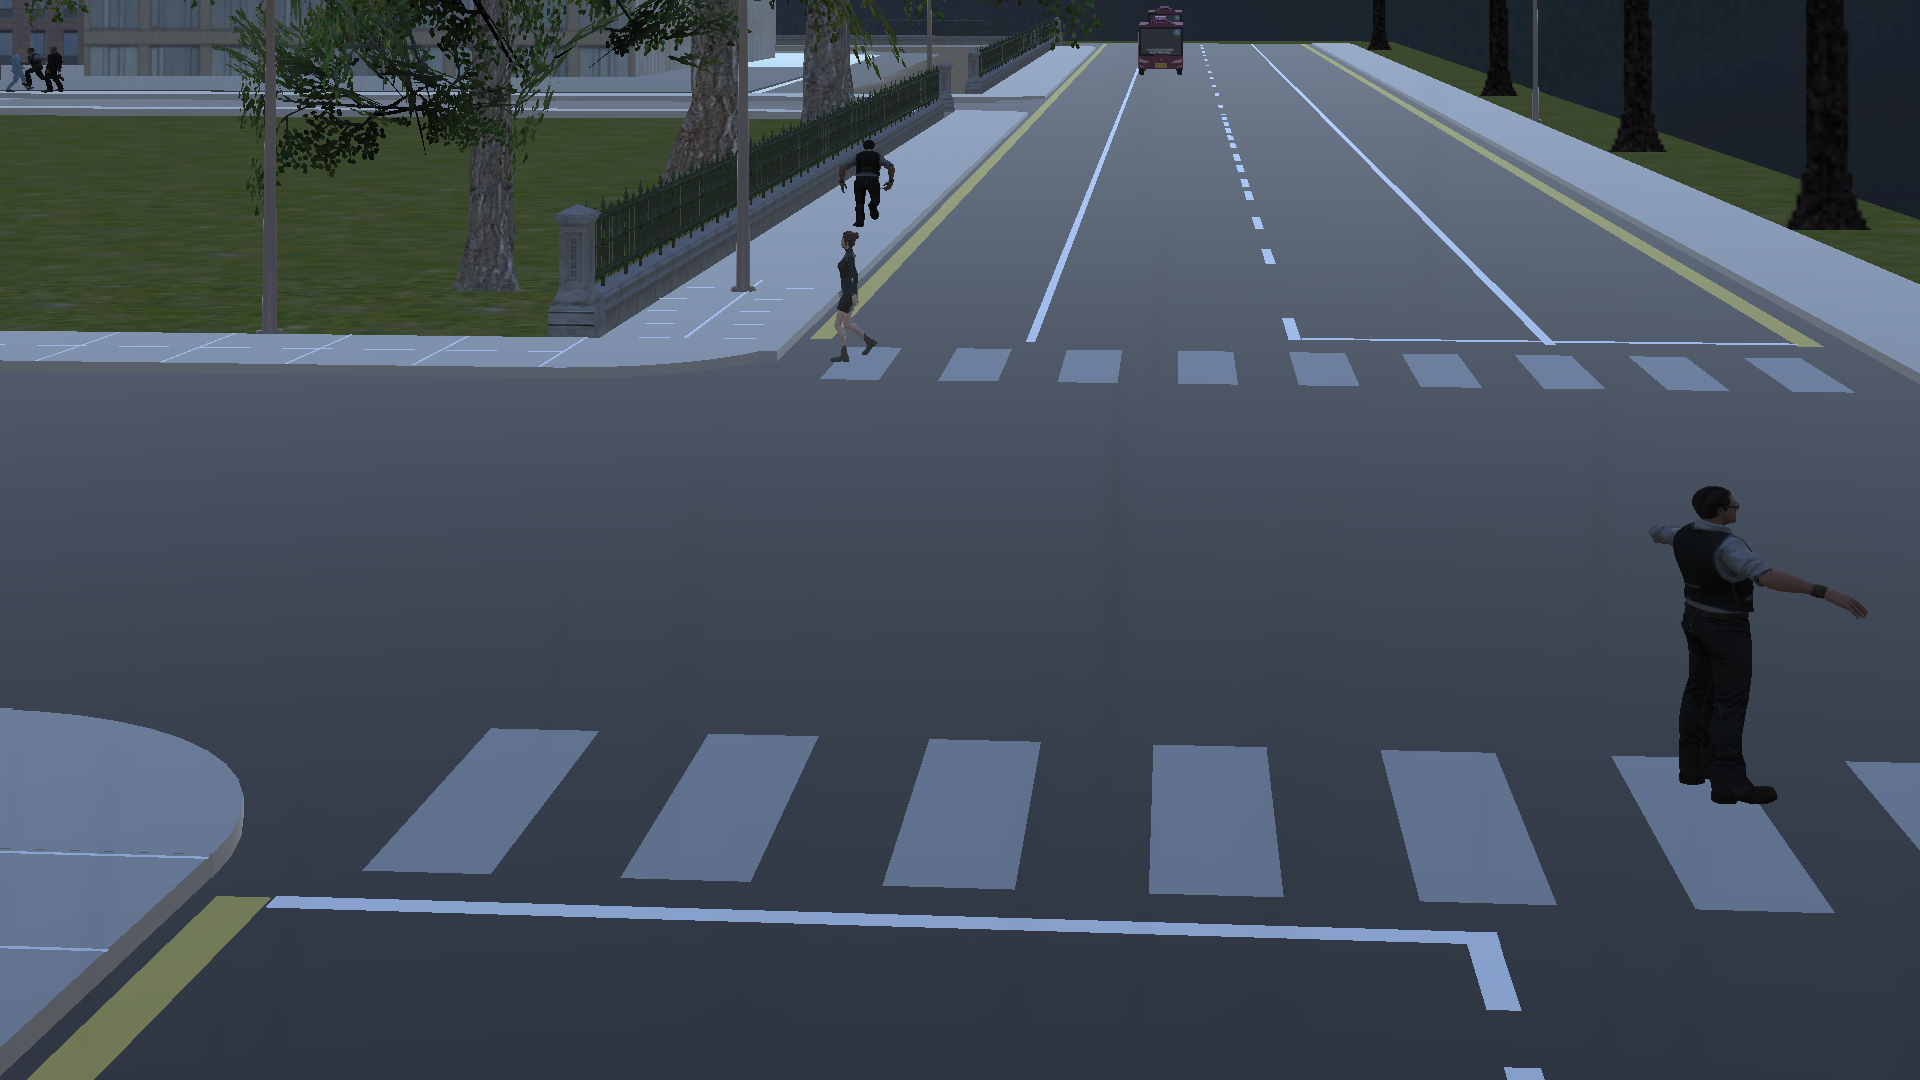pedestrian: (1643, 473, 1892, 859), (821, 225, 887, 382), (841, 139, 907, 226)
